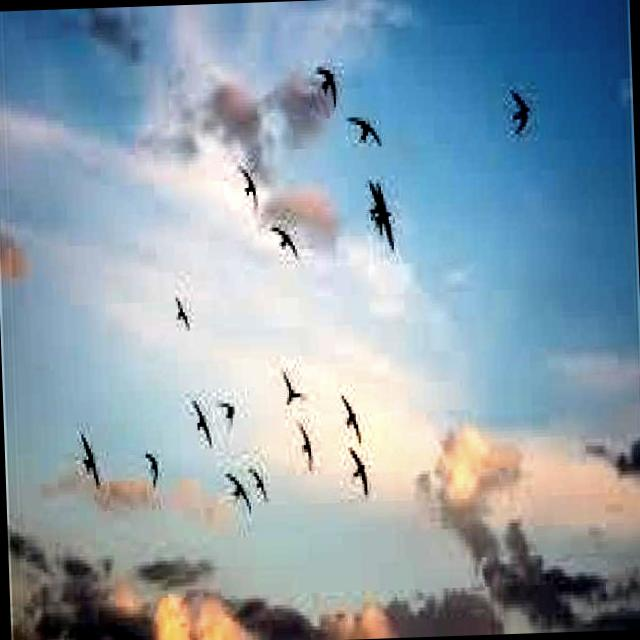bird: (344, 439, 376, 500), (78, 421, 102, 489), (344, 111, 383, 152), (267, 217, 301, 264), (184, 393, 210, 452), (314, 59, 340, 112), (234, 158, 259, 212), (224, 466, 253, 512), (273, 369, 301, 411), (509, 85, 531, 138), (339, 388, 364, 434), (296, 420, 316, 470), (141, 448, 163, 491), (170, 288, 191, 333)
